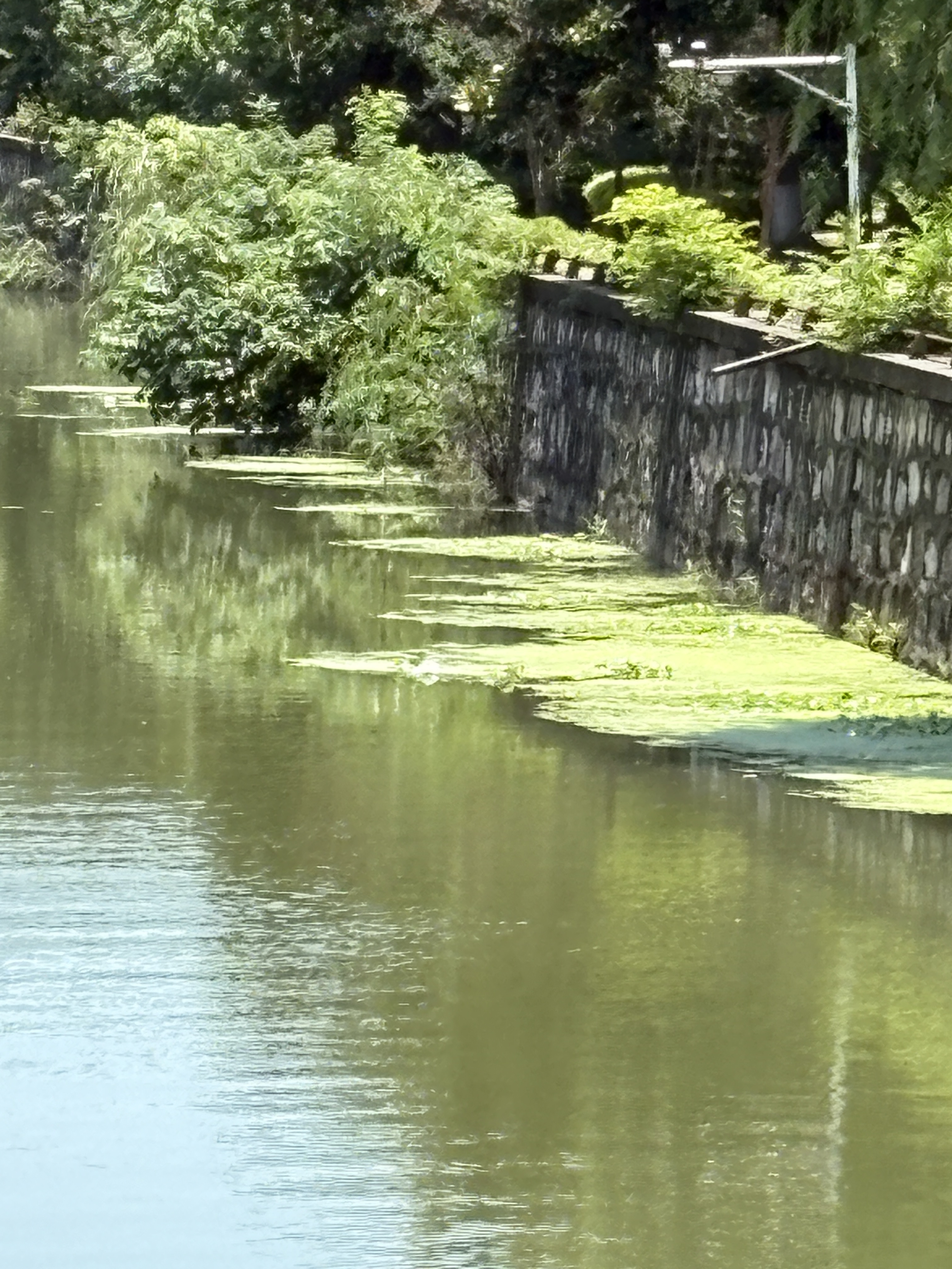Other: (431, 164, 599, 584), (477, 2, 608, 140), (483, 589, 513, 844), (401, 470, 422, 802), (339, 788, 364, 979), (375, 696, 385, 880), (314, 1027, 331, 1124), (289, 1085, 294, 1229)
